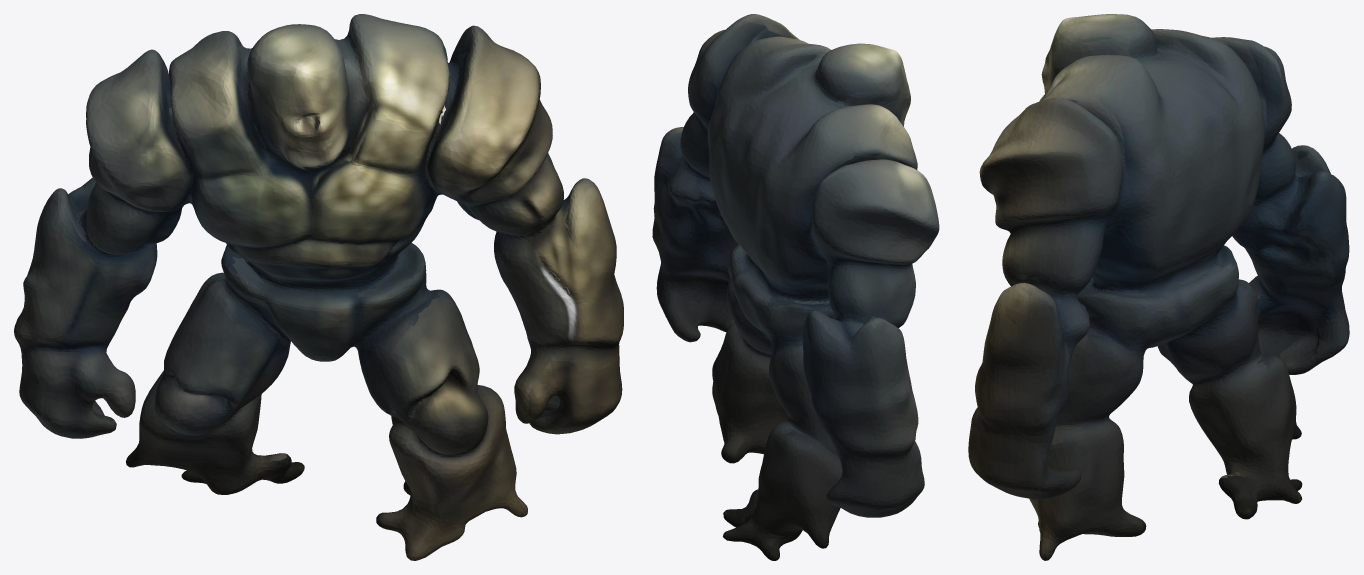
Rendered from boss-07.glb.
3 views of the same model, side by side, from view 1: azimuth 30°, elevation 25°; view 2: azimuth 150°, elevation 25°; view 3: azimuth 270°, elevation 25° (orthographic). The views are drawn at different scales.
Parts seen in each view (by area): view 1: tmps_y5n60f.ply; view 2: tmps_y5n60f.ply; view 3: tmps_y5n60f.ply.
Part boxes in pixels (x1,y1,x2,y2): tmps_y5n60f.ply: (14, 14, 623, 560); tmps_y5n60f.ply: (652, 14, 939, 560); tmps_y5n60f.ply: (968, 14, 1349, 560).
Size of the model in its own units: 1.78 by 1.96 by 1.43.
Materials: 1 (1 with a texture image).
